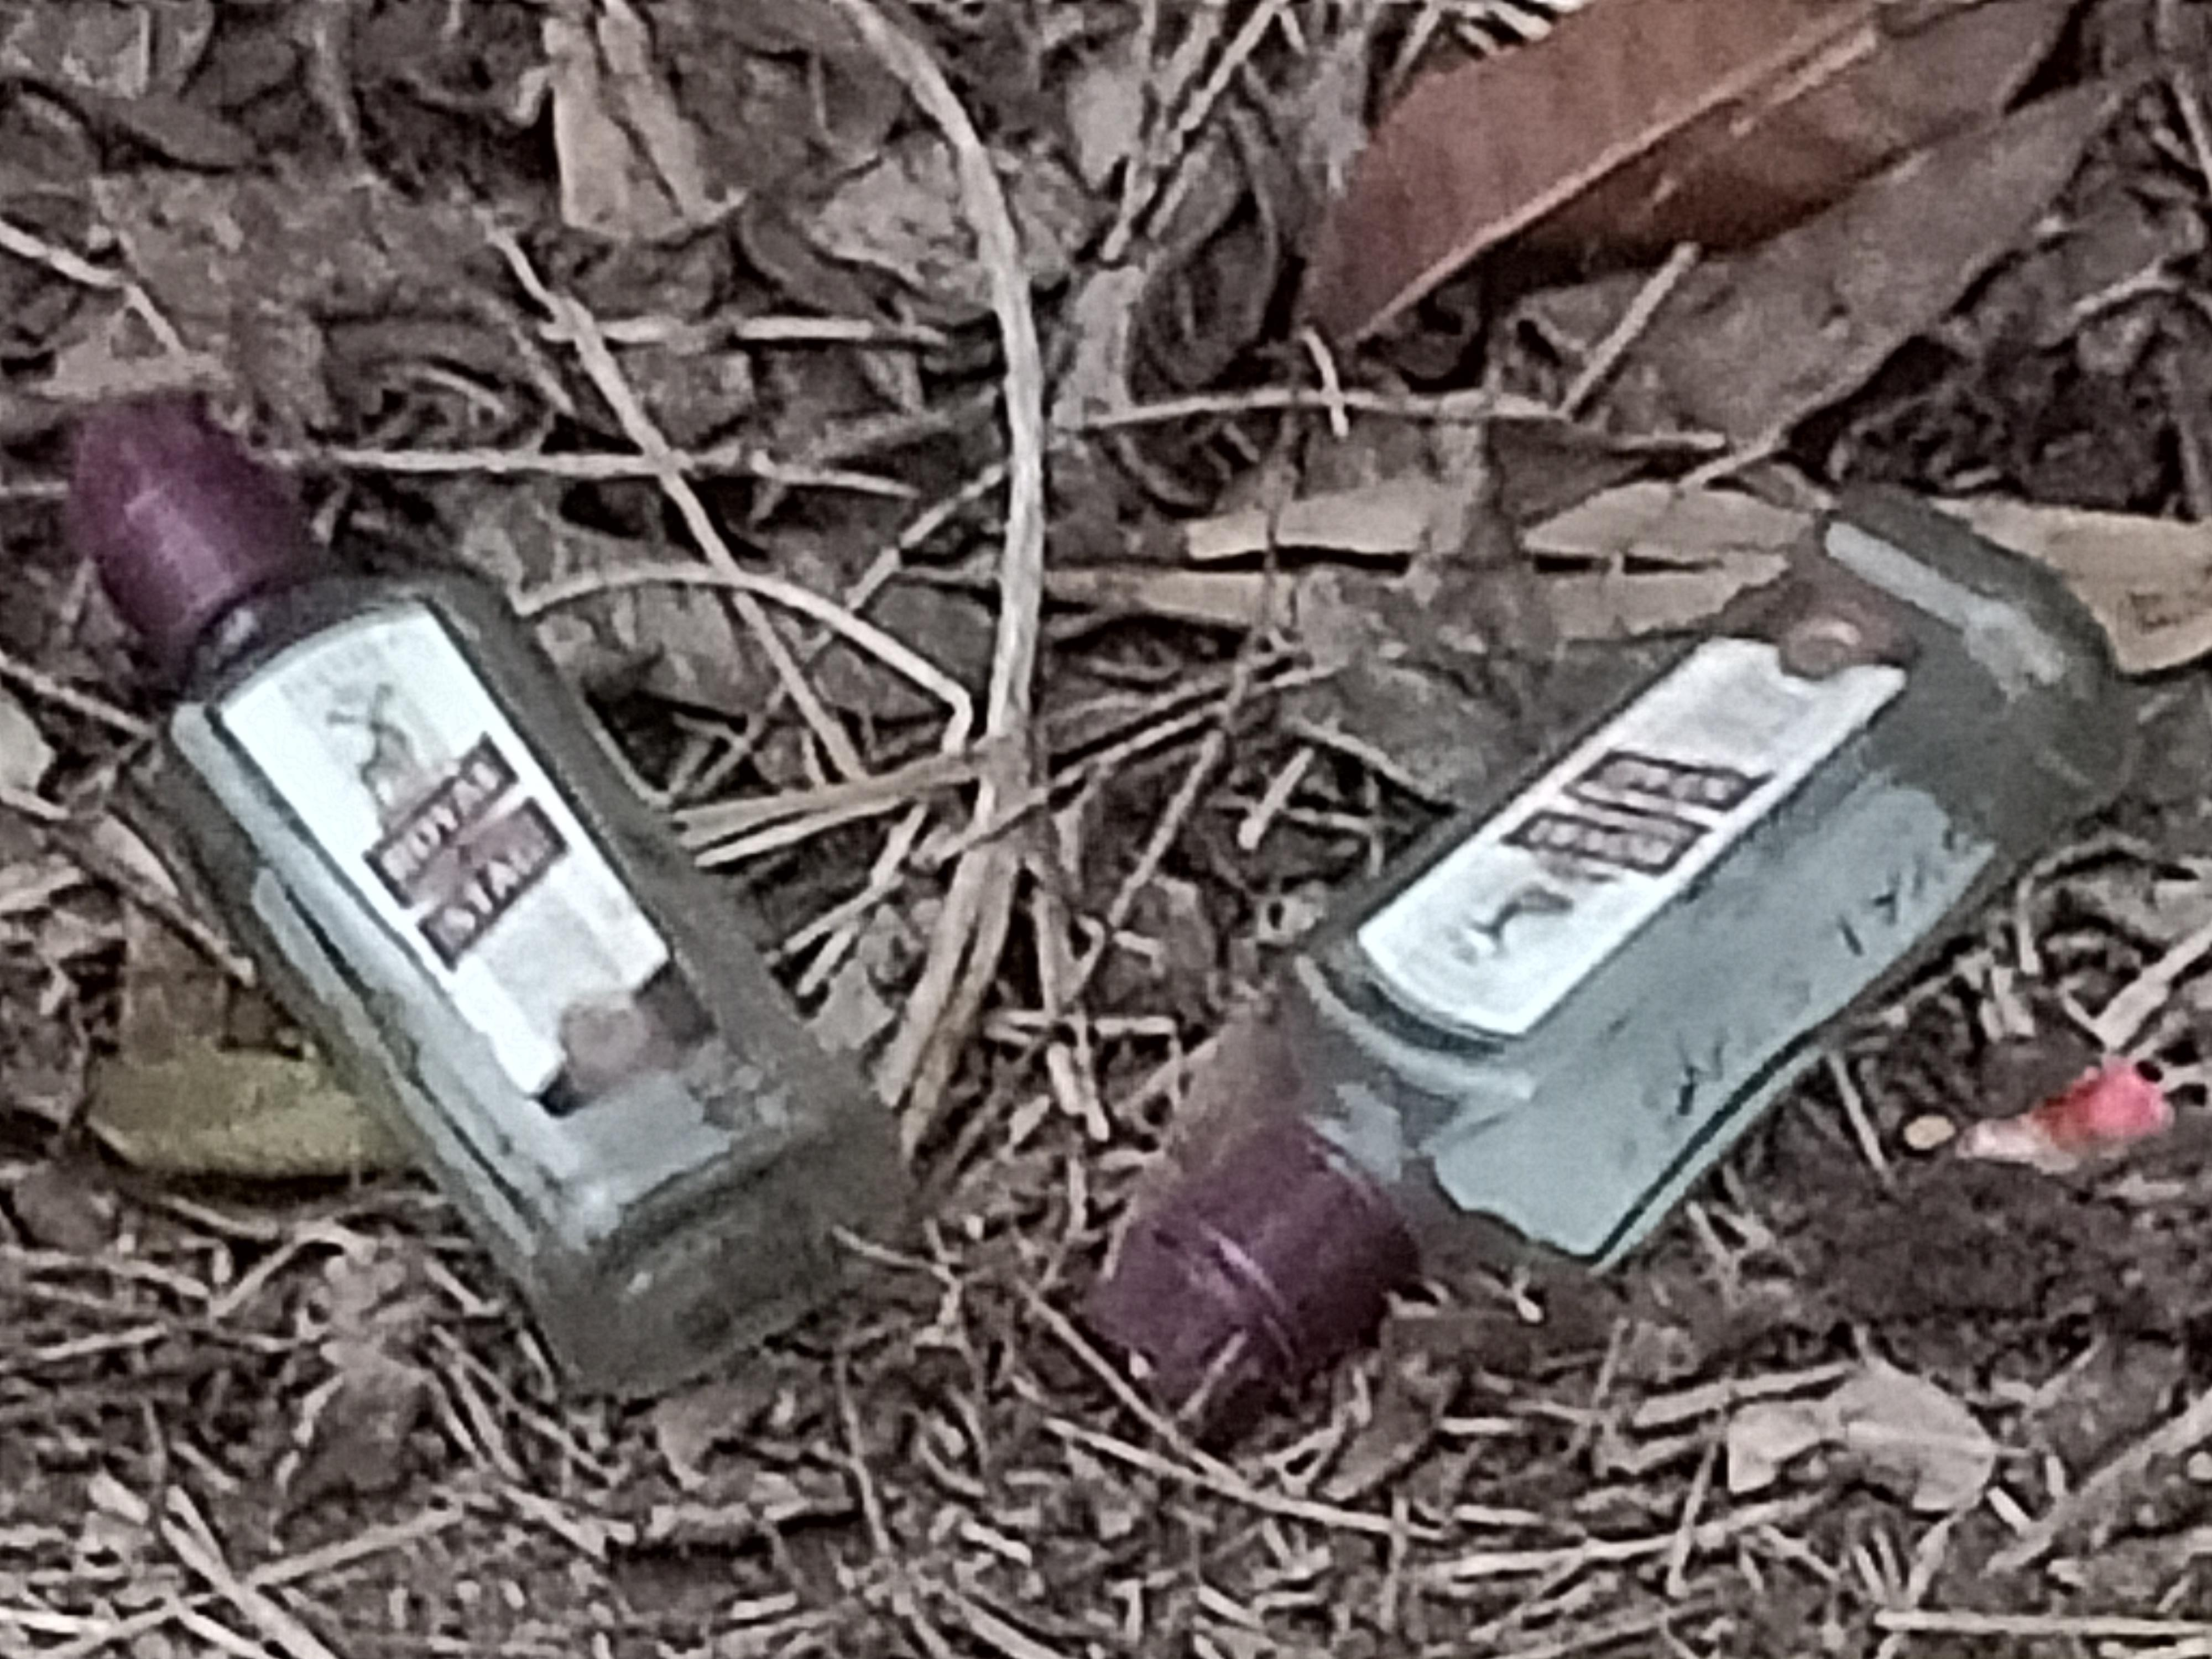trash: (77, 369, 2155, 1417)
